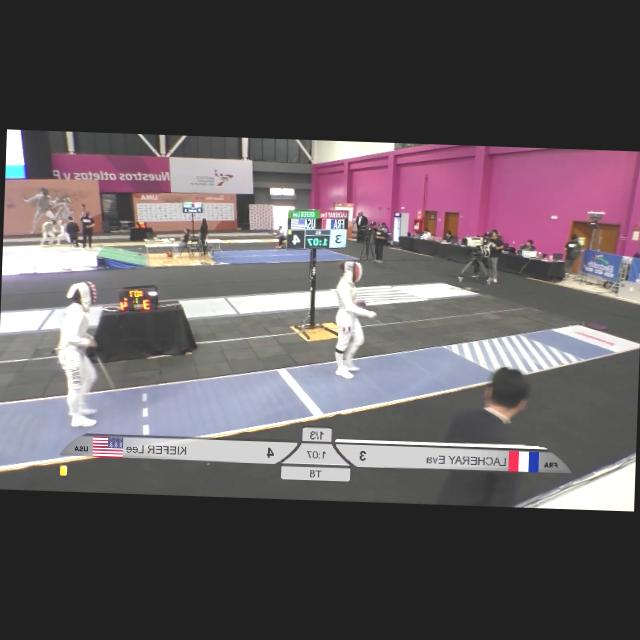blade: (88, 342, 124, 400)
